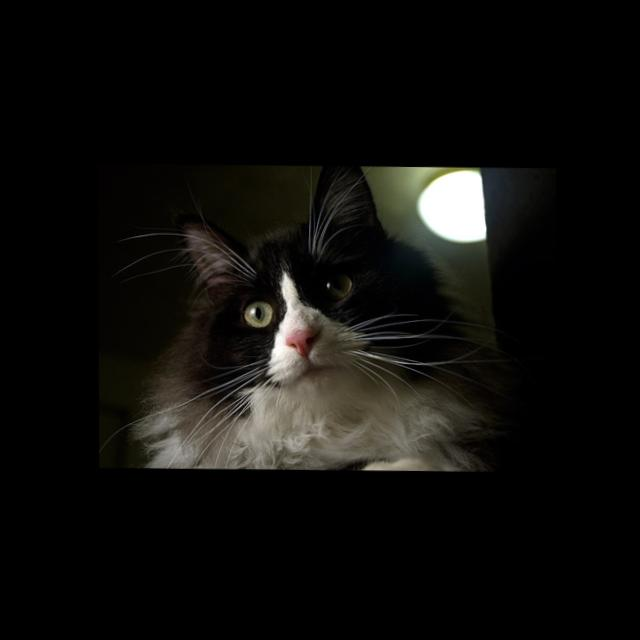animals: (168, 163, 383, 355)
